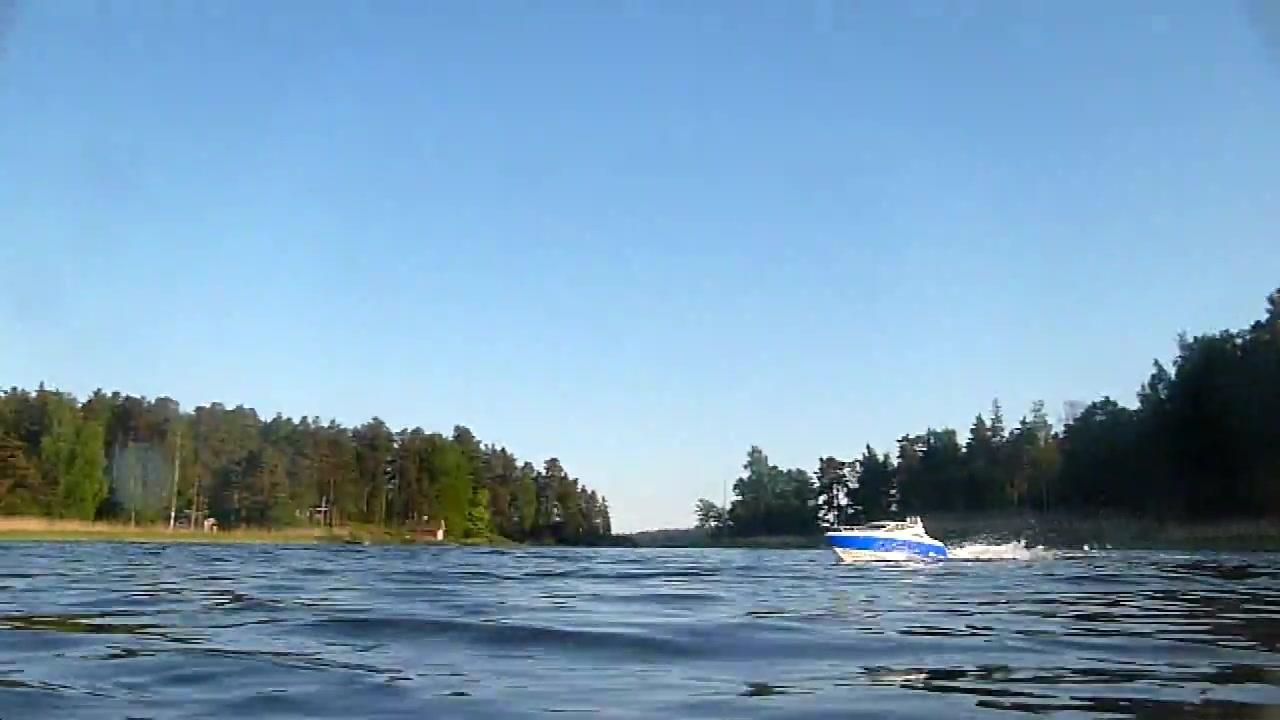boat: (822, 515, 950, 568)
